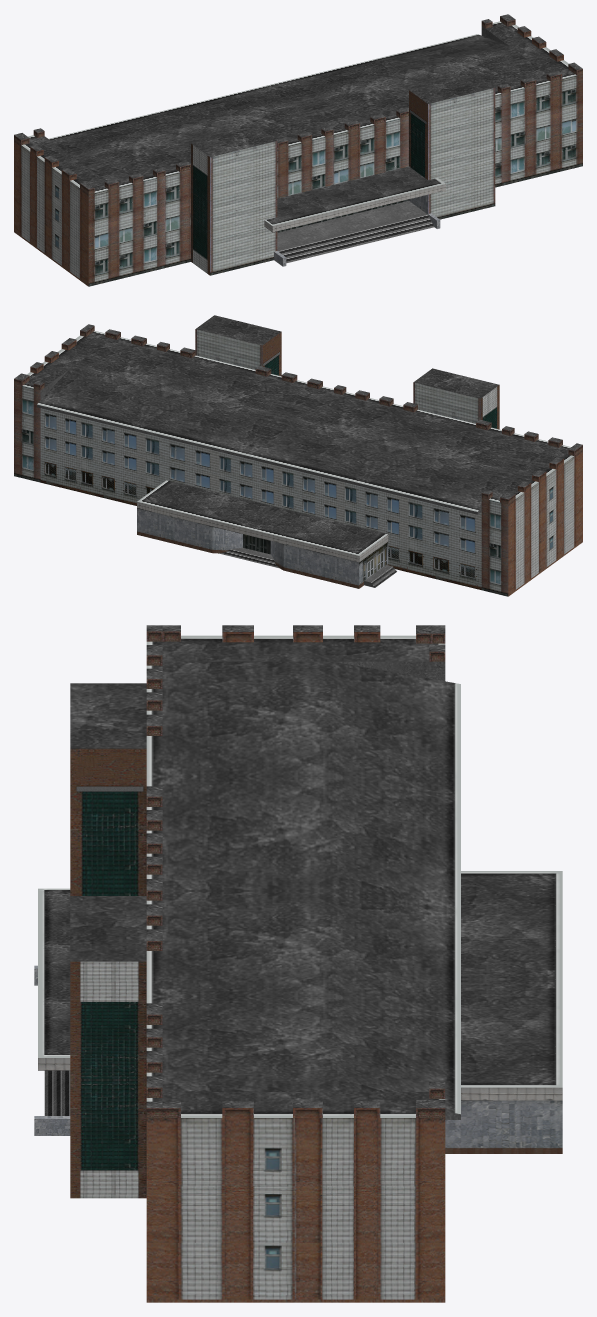
The model's file is house_32_municipal.FBX.
3 renders of one model, top to bottom at view 1: azimuth 30°, elevation 25°; view 2: azimuth 150°, elevation 25°; view 3: azimuth 270°, elevation 25°, orthographic. The views are drawn at different scales.
Visible parts, largest first — view 1: house_32_municipal; view 2: house_32_municipal; view 3: house_32_municipal.
Boxes of the visible parts, x1,y1,x2,y2 form: house_32_municipal: (14, 14, 582, 286); house_32_municipal: (14, 315, 582, 596); house_32_municipal: (34, 625, 562, 1302).
Size of the model in its own units: 53.5 by 12.25 by 24.75.
